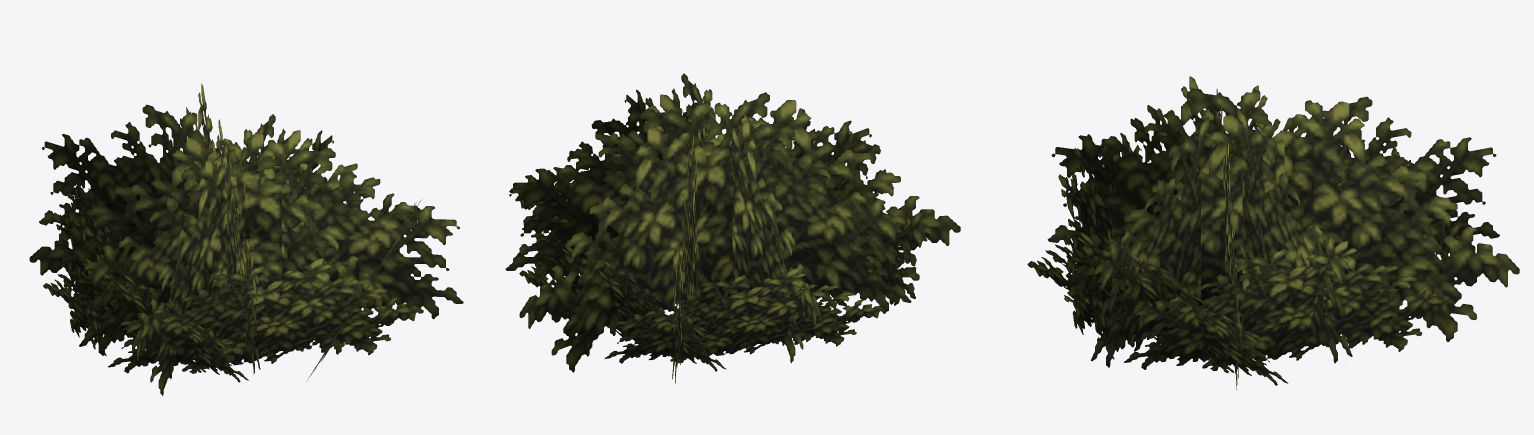
Rendered from Arbusto-Verde-01-Redondo.glb.
3 views of the same model, side by side, from view 1: azimuth 30°, elevation 25°; view 2: azimuth 150°, elevation 25°; view 3: azimuth 270°, elevation 25° (orthographic). The views are drawn at different scales.
Visible parts, largest first — view 1: Arbusto-Verde-01-Redondo; view 2: Arbusto-Verde-01-Redondo; view 3: Arbusto-Verde-01-Redondo.
Boxes of the visible parts, x1=… form: Arbusto-Verde-01-Redondo: x1=29, y1=83, x2=463, y2=395; Arbusto-Verde-01-Redondo: x1=505, y1=73, x2=960, y2=383; Arbusto-Verde-01-Redondo: x1=1027, y1=76, x2=1519, y2=389.
Size of what is drawn, in the model's own units: 1.87 by 0.9222 by 1.97.
1 material, 1 textured.
